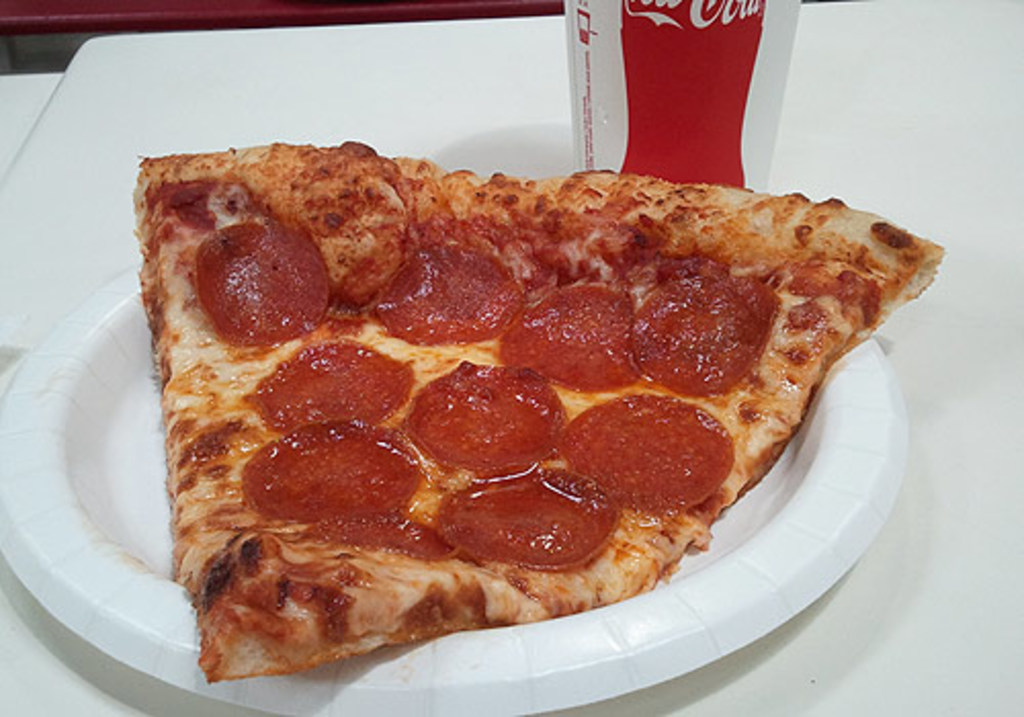Pizza: (131, 139, 964, 700)
